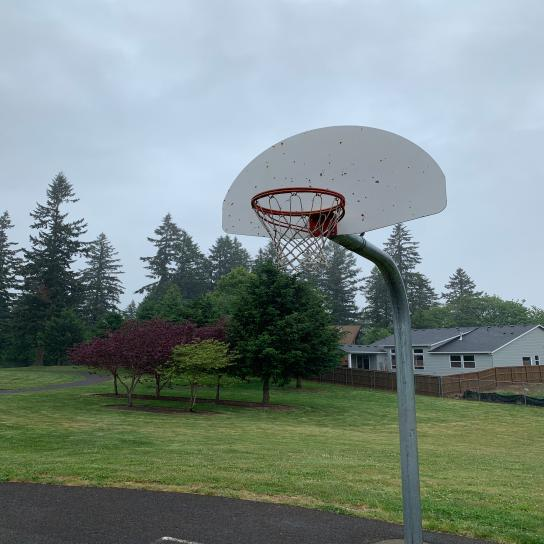basketball-hoop: (249, 186, 347, 274)
